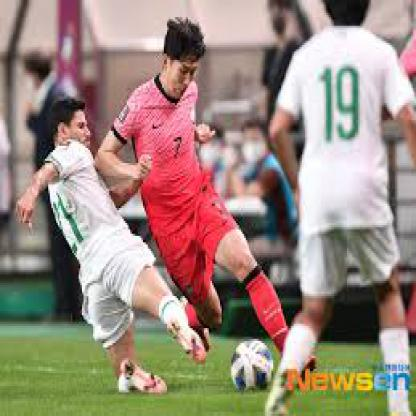Fall_Down: (12, 97, 209, 398)
